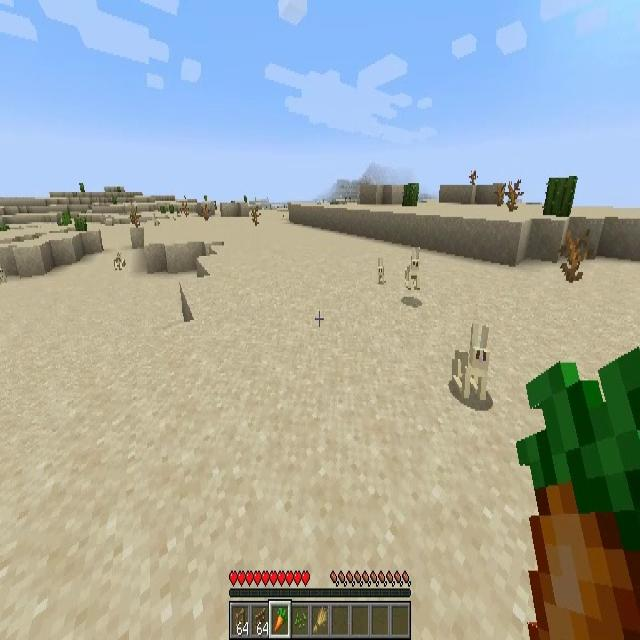rabbit: (461, 326, 491, 404), (403, 254, 421, 294), (376, 255, 386, 284), (114, 252, 122, 270)
